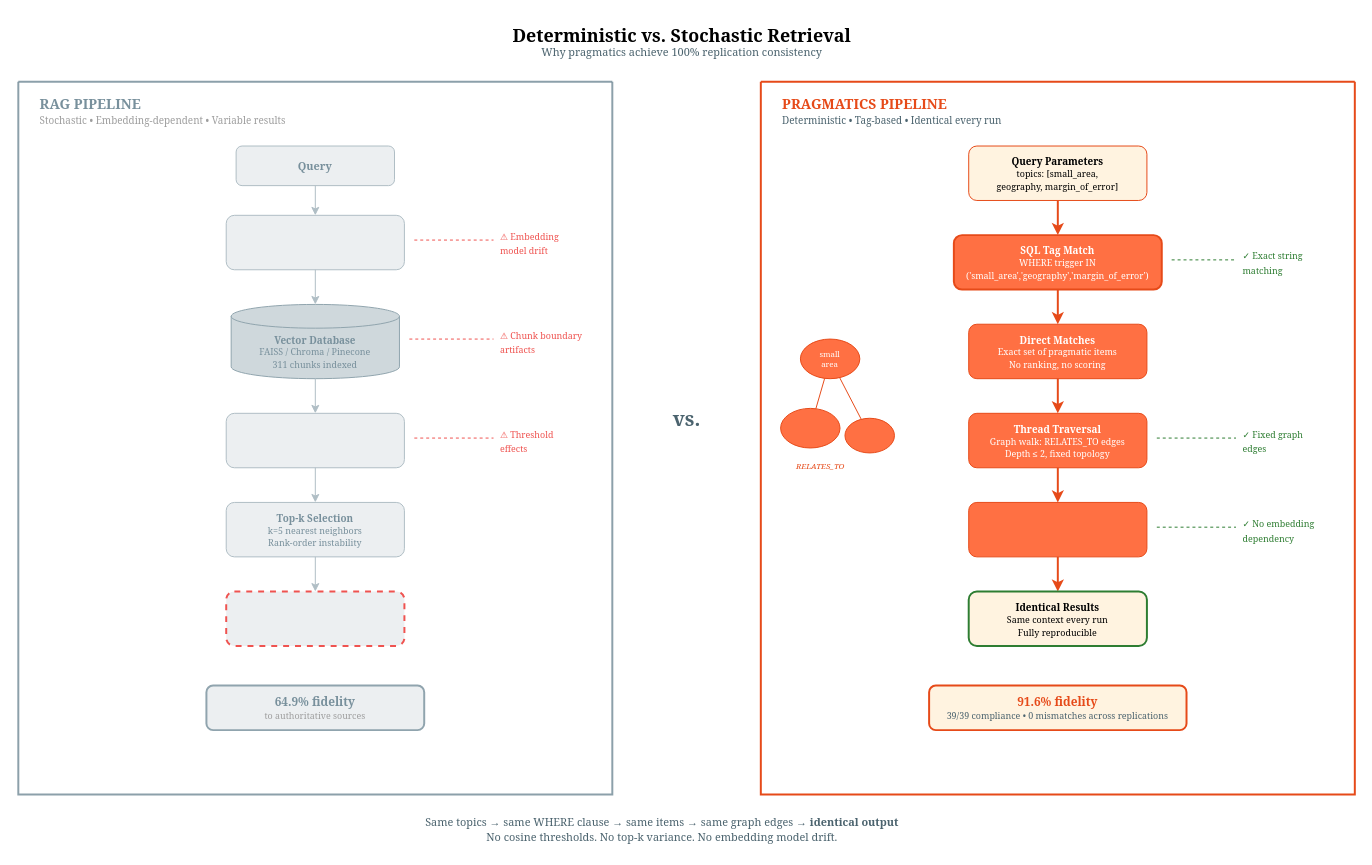
This 1372x865 diagram has some shape labels left out. The shapes that lost their labels are listed below. From the top down, each one's box as (x1, y1, x2, y2) in pixels, then its label:
(225, 214, 404, 270): Embed Query sentence-transformers 384-dim vector
(225, 412, 404, 468): Cosine Similarity Continuous scores Threshold-dependent ranking
(780, 407, 840, 448): pop threshold
(844, 417, 894, 453): MOE
(968, 501, 1147, 557): Related Items Union of direct + traversed Complete pragmatic bundle
(225, 590, 405, 646): Variable Results Different context across runs Non-reproducible
